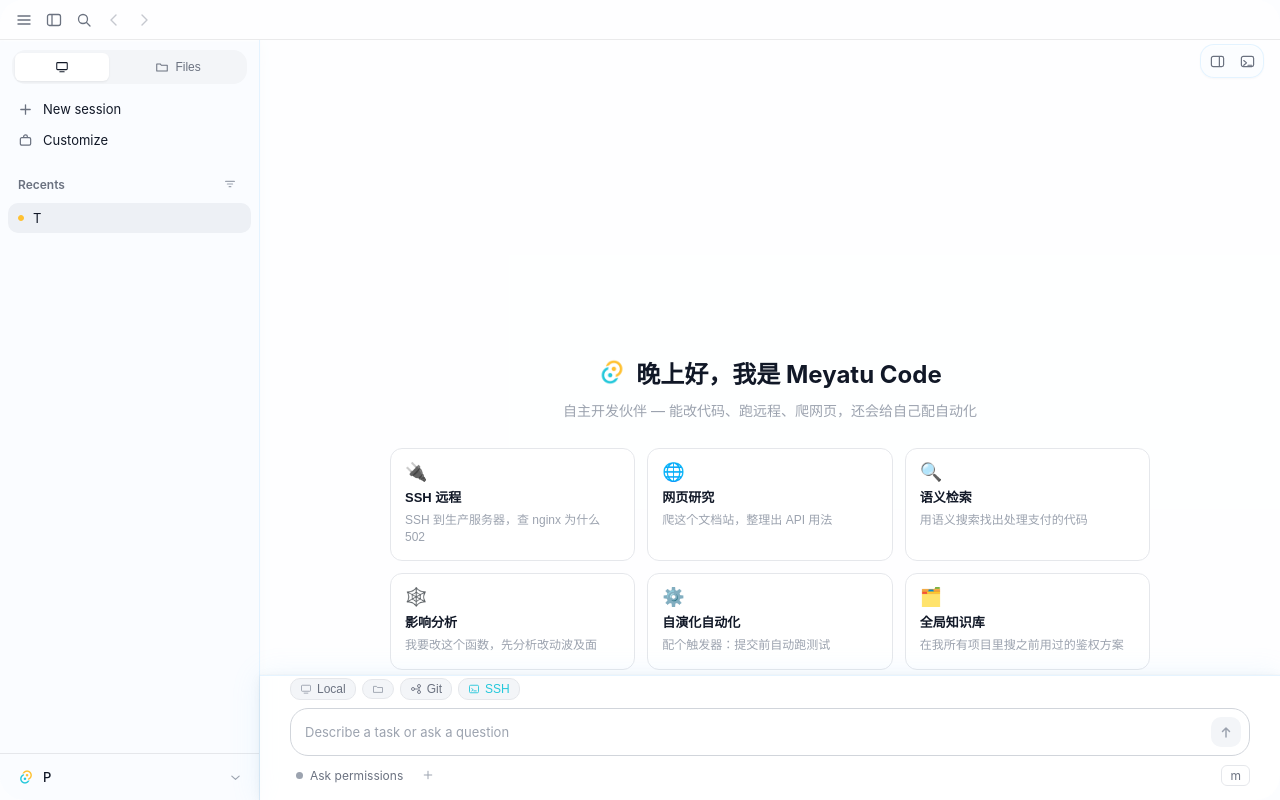
Test: ChatWindow integration › sends a message, renders the streamed reply, and persists it
Type "hi" into the text box with placeholder "Describe a task or ask a question". click: (754, 733)
box: x1=305 y1=719 x2=1203 y2=747
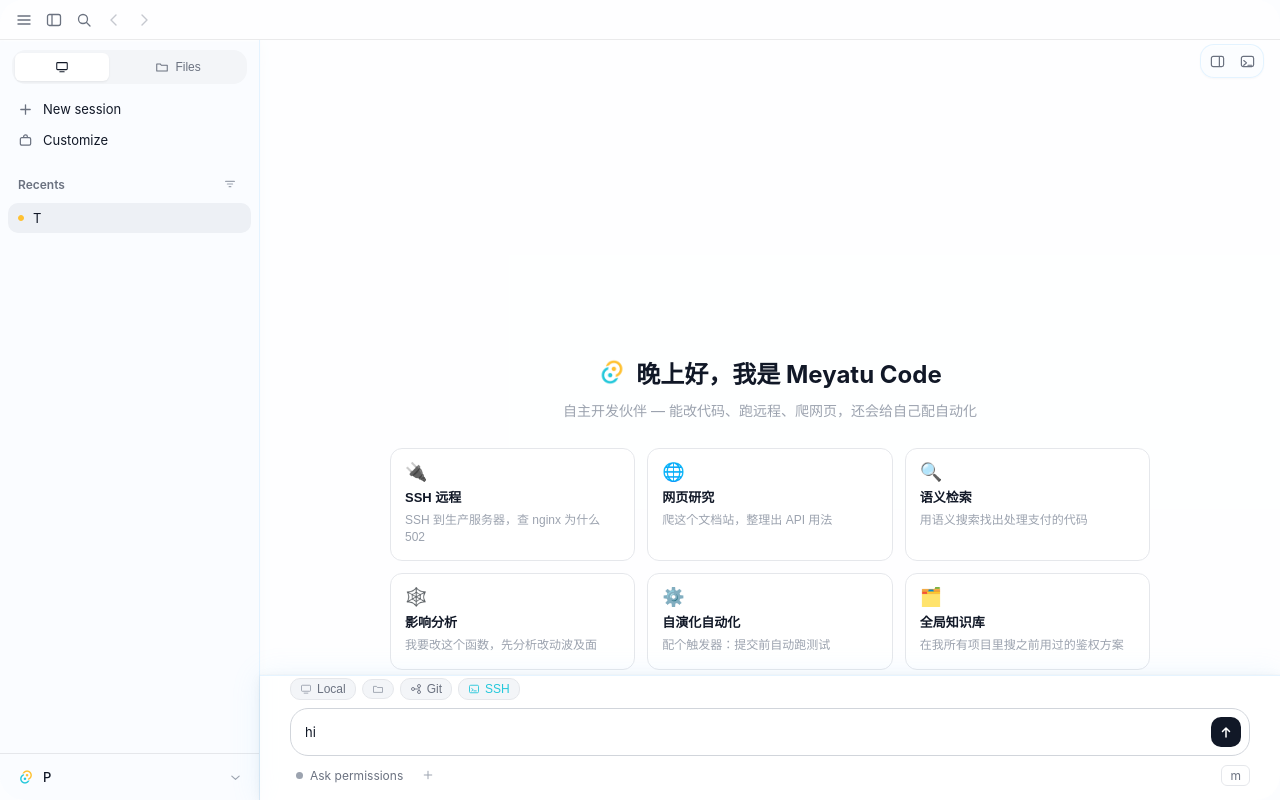
Click the button named "Send message". click: (1226, 732)
box: x1=1211 y1=717 x2=1241 y2=747
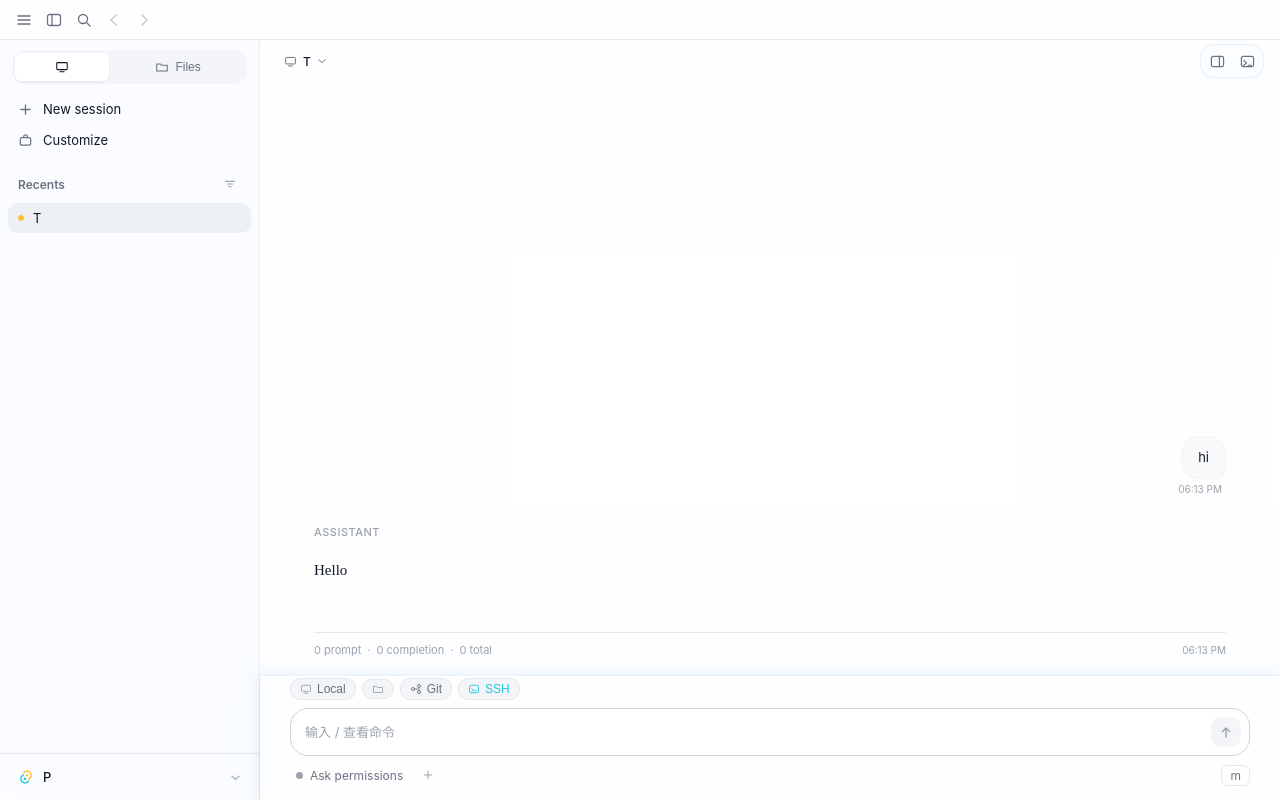
Now the text "Hello" is shown, box x1=314 y1=562 x2=347 y2=578
